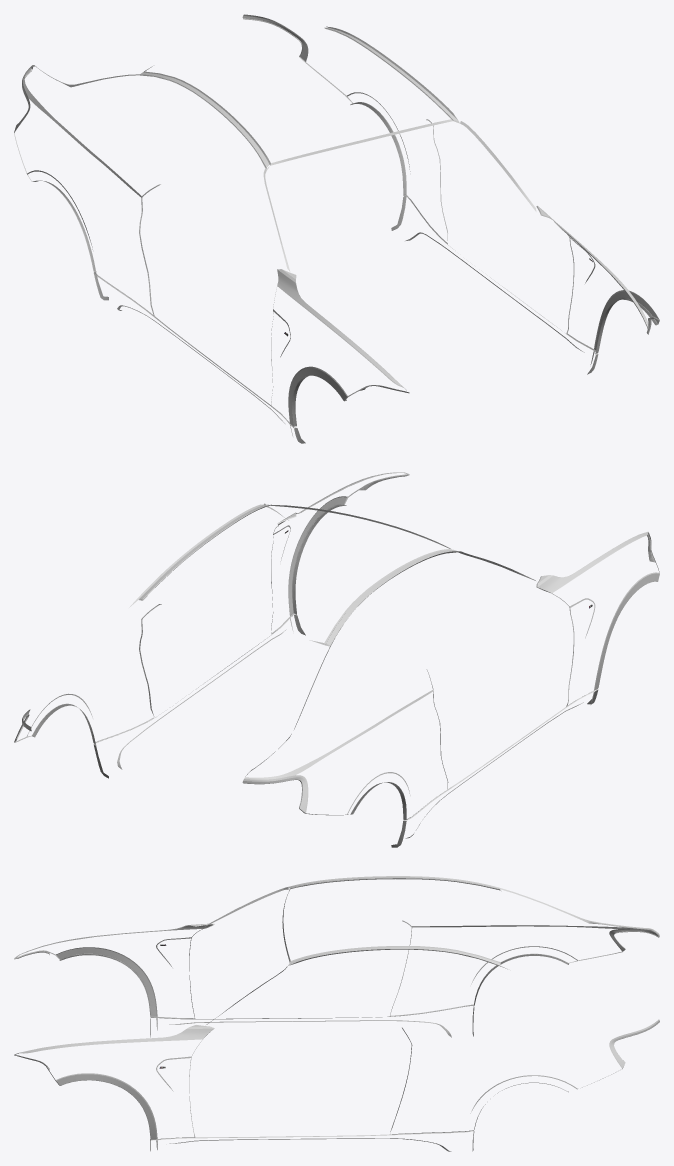
File: M2frameoutline.glb
3 renders of one model, top to bottom at view 1: azimuth 30°, elevation 25°; view 2: azimuth 150°, elevation 25°; view 3: azimuth 270°, elevation 25°, orthographic. The views are drawn at different scales.
Parts seen in each view (by area): view 1: LOD_A_BODY_mm_ext_5; view 2: LOD_A_BODY_mm_ext_5; view 3: LOD_A_BODY_mm_ext_5.
Part boxes in pixels (x1,y1,x2,y2): LOD_A_BODY_mm_ext_5: [14, 14, 659, 443]; LOD_A_BODY_mm_ext_5: [14, 472, 659, 847]; LOD_A_BODY_mm_ext_5: [14, 876, 659, 1151].
Bounding box in the file's own units: 1.85 × 1.22 × 3.91.
2 materials, 2 textured.
